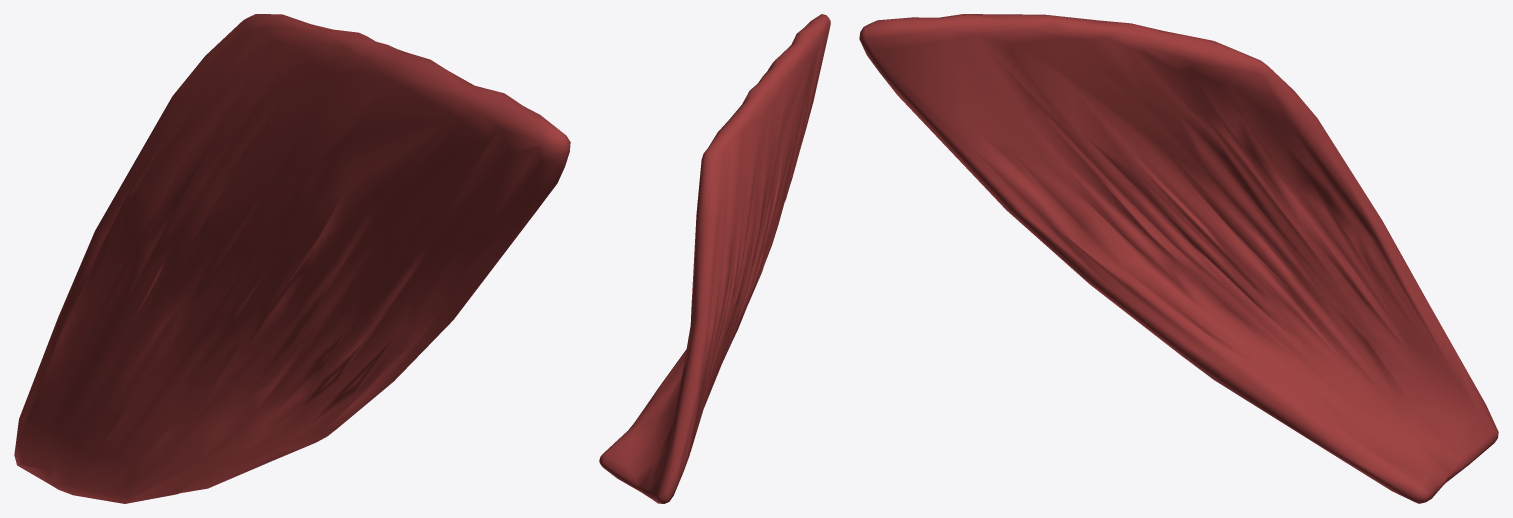
The model's file is hyoglossus-muscle-r.glb.
The picture shows the model from 3 angles, left to right: view 1: azimuth 30°, elevation 25°; view 2: azimuth 150°, elevation 25°; view 3: azimuth 270°, elevation 25°; orthographic projection. The views are drawn at different scales.
Parts seen in each view (by area): view 1: Hyoglossus muscle.r; view 2: Hyoglossus muscle.r; view 3: Hyoglossus muscle.r.
Part boxes in pixels (<box>): Hyoglossus muscle.r: <box>14,14,570,503</box>; Hyoglossus muscle.r: <box>599,14,830,503</box>; Hyoglossus muscle.r: <box>859,14,1498,503</box>.
Size of the model in its own units: 0.00787 by 0.0253 by 0.0307.
